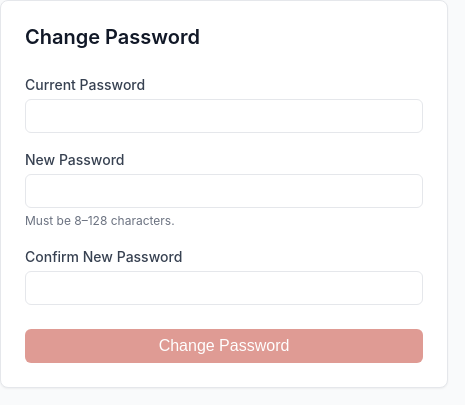
Test: PasswordChangeForm › shows validation error when new password is too short
Type "short" into the password field with id "new-password" at [224, 191], box [25,174,423,208]
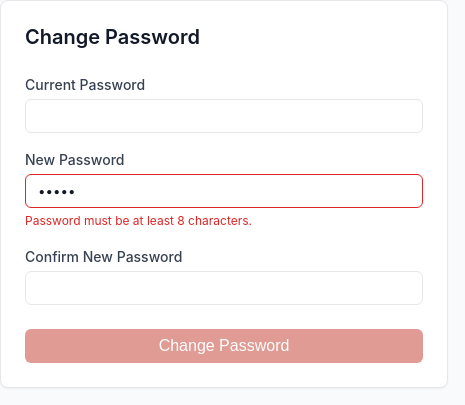
expect the text "Password must be at least 8 characters." is shown: met, box [25,213,252,228]
